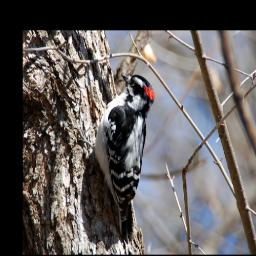Woodpecker: (92, 69, 158, 243)
